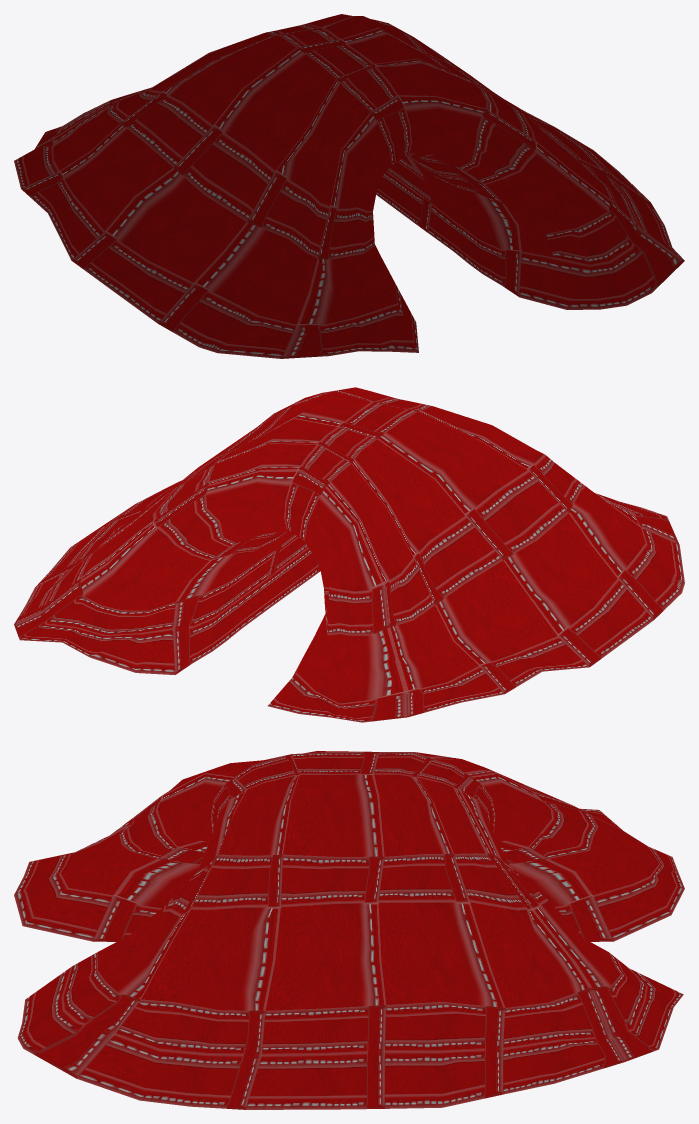
3 views of the same model, one above another, from view 1: azimuth 30°, elevation 25°; view 2: azimuth 150°, elevation 25°; view 3: azimuth 270°, elevation 25° (orthographic). The views are drawn at different scales.
Visible parts, largest first — view 1: Joint_0_Object_0; view 2: Joint_0_Object_0; view 3: Joint_0_Object_0.
Part boxes in pixels (x1,y1,x2,y2): Joint_0_Object_0: (14, 14, 684, 358); Joint_0_Object_0: (14, 387, 684, 722); Joint_0_Object_0: (14, 751, 684, 1109).
Size of the model in its own units: 3405 by 1170 by 3475.
